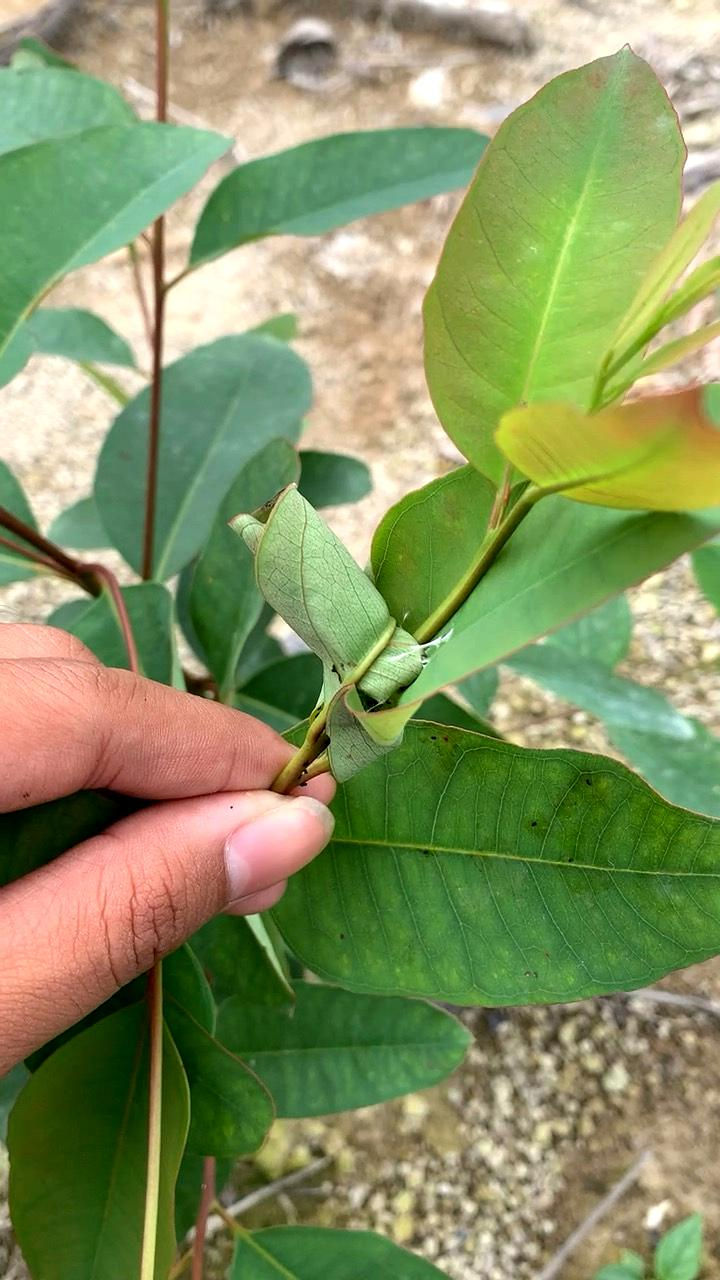Leaf Roller - Leaf: (206, 453, 453, 758)
